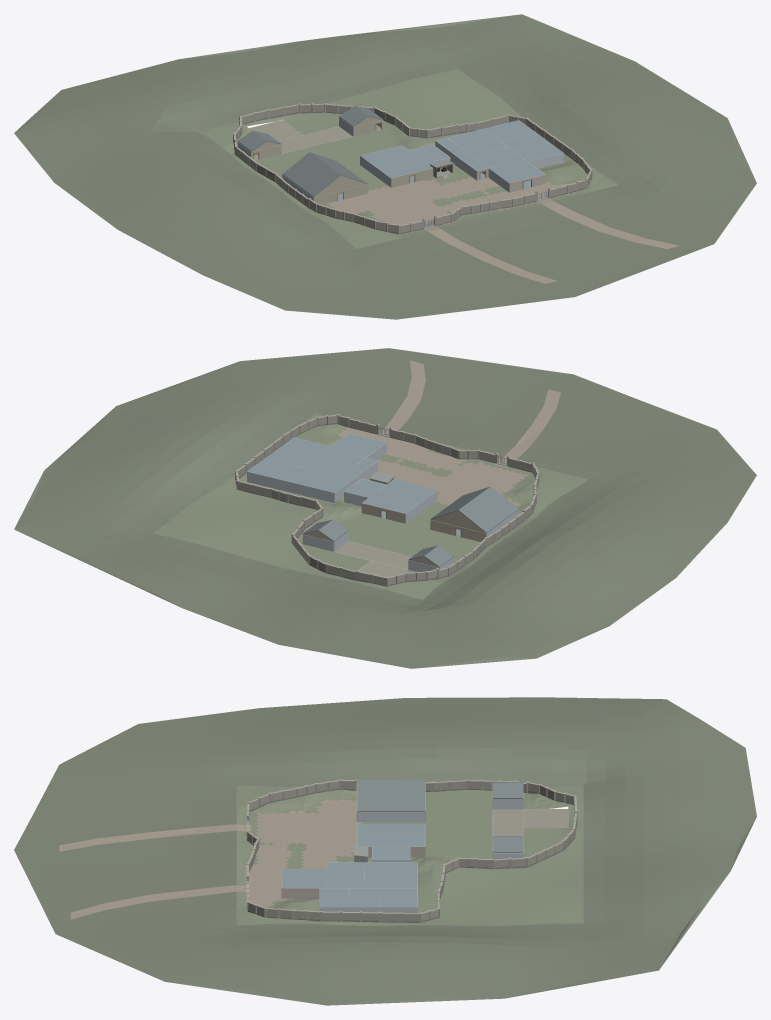
File: distributed-grounds.glb
The picture shows the model from 3 angles, top to bottom: view 1: azimuth 30°, elevation 25°; view 2: azimuth 150°, elevation 25°; view 3: azimuth 270°, elevation 25°; orthographic projection. The views are drawn at different scales.
Visible parts, largest first — view 1: Joined cemetery exterior landform, WLD-07-MORTUARY saved ground, Cemetery enclosure bonded piers, WLD-07-MORTUARY chapel west slope, Ceiling cap cottage, WLD-07-MORTUARY ossuary full deck region0, Ceiling cap mort-viewing, Ceiling cap mort-bay, Ceiling cap mort-reception, Ceiling cap mort-prep, WLD-07-MORTUARY archive full cover region0; view 2: Joined cemetery exterior landform, WLD-07-MORTUARY saved ground, Cemetery enclosure bonded piers, WLD-07-MORTUARY chapel west slope, Ceiling cap cottage, WLD-07-MORTUARY ossuary full deck region0, Ceiling cap mort-viewing, Ceiling cap mort-bay, Ceiling cap mort-prep, Ceiling cap mort-reception, Ceiling cap mort-cold, Ceiling cap mort-hall (+1 smaller); view 3: Joined cemetery exterior landform, WLD-07-MORTUARY saved ground, WLD-07-MORTUARY chapel east slope, Cemetery enclosure bonded piers, Ceiling cap cottage, Ceiling cap mort-viewing, WLD-07-MORTUARY archive full cover region0, Ceiling cap mort-bay, WLD-07-MORTUARY ossuary full deck region0, Ceiling cap mort-prep, Wall chapel E, Ceiling cap mort-reception (+3 smaller).
Boxes of the visible parts, x1,y1,x2,y2 form: Joined cemetery exterior landform: (14,14,756,319); WLD-07-MORTUARY saved ground: (199,69,618,248); Cemetery enclosure bonded piers: (233,103,592,234); WLD-07-MORTUARY chapel west slope: (282,152,340,197); Ceiling cap cottage: (361,145,432,177); WLD-07-MORTUARY ossuary full deck region0: (278,126,352,153); Ceiling cap mort-viewing: (448,129,506,155); Ceiling cap mort-bay: (489,159,544,182); Ceiling cap mort-reception: (472,147,523,167); Ceiling cap mort-prep: (483,120,535,141); WLD-07-MORTUARY archive full cover region0: (249,120,302,141); Joined cemetery exterior landform: (14,348,756,668); WLD-07-MORTUARY saved ground: (153,413,588,599); Cemetery enclosure bonded piers: (234,413,539,586); WLD-07-MORTUARY chapel west slope: (458,486,518,533); Ceiling cap cottage: (362,479,437,513); WLD-07-MORTUARY ossuary full deck region0: (335,541,411,569); Ceiling cap mort-viewing: (285,462,346,489); Ceiling cap mort-bay: (328,433,386,457); Ceiling cap mort-prep: (247,458,301,480); Ceiling cap mort-reception: (310,449,364,471); Ceiling cap mort-cold: (265,448,316,467); Ceiling cap mort-hall: (322,458,376,492); Joined cemetery exterior landform: (14,697,756,1005); WLD-07-MORTUARY saved ground: (236,785,583,926); WLD-07-MORTUARY chapel east slope: (357,779,424,811); Cemetery enclosure bonded piers: (246,779,577,922); Ceiling cap cottage: (357,824,424,846); Ceiling cap mort-viewing: (364,869,417,887); WLD-07-MORTUARY archive full cover region0: (523,809,568,828); Ceiling cap mort-bay: (281,869,326,887); WLD-07-MORTUARY ossuary full deck region0: (493,809,522,836); Ceiling cap mort-prep: (380,888,417,907); Wall chapel E: (357,811,424,821); Ceiling cap mort-reception: (327,869,364,887).
Size of the model in its own units: 192 by 11.28 by 197.
Materials: 75 (47 with a texture image).
